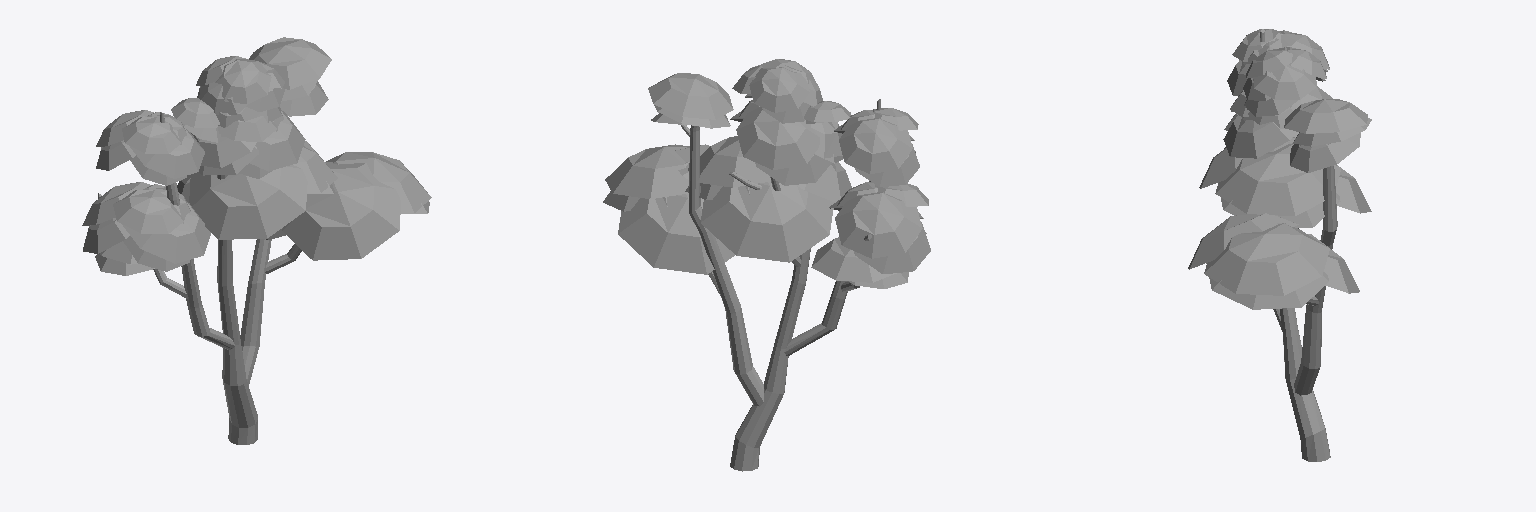
File: Birch_3.obj
3 views of the same model, side by side, from view 1: azimuth 30°, elevation 25°; view 2: azimuth 150°, elevation 25°; view 3: azimuth 270°, elevation 25° (orthographic).
Parts seen in each view (by area): view 1: Birch_3; view 2: Birch_3; view 3: Birch_3.
Part boxes in pixels (x1,y1,x2,y2): Birch_3: (82, 37, 431, 444); Birch_3: (603, 59, 930, 471); Birch_3: (1188, 29, 1371, 461).
Bounding box in the file's own units: 8.76 × 10.3 × 4.35.